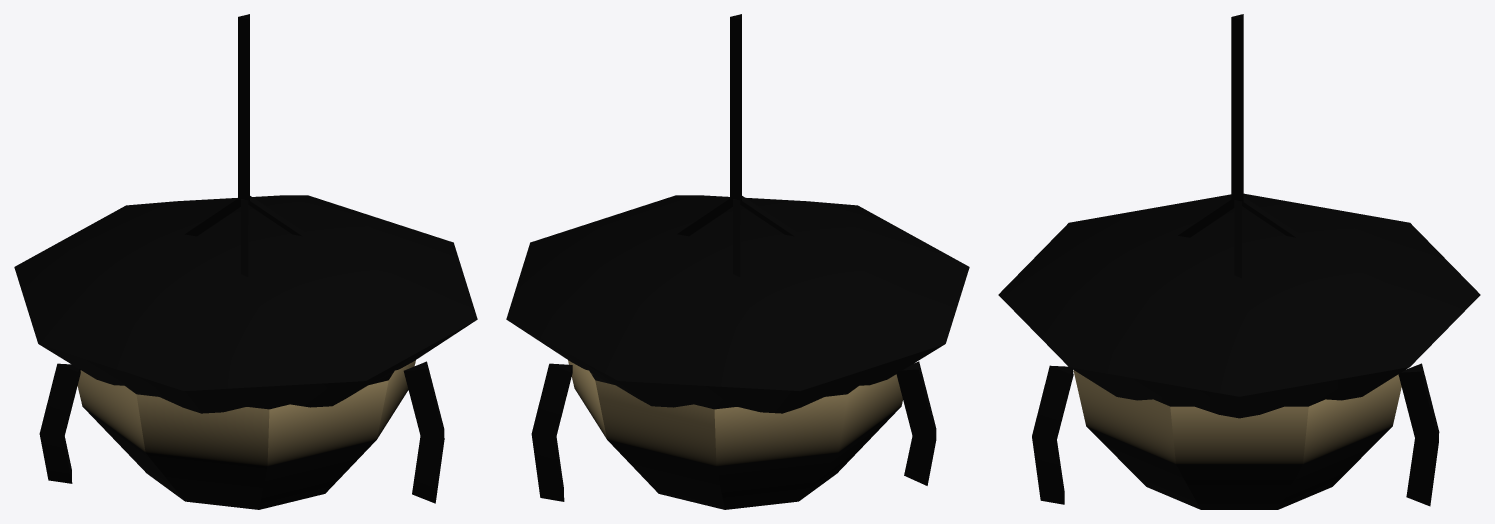
Rendered from hanging_basket.glb.
3 views of the same model, side by side, from view 1: azimuth 30°, elevation 25°; view 2: azimuth 150°, elevation 25°; view 3: azimuth 270°, elevation 25° (orthographic).
Parts seen in each view (by area): view 1: leaves, wicker, brass; view 2: leaves, wicker, brass; view 3: leaves, wicker, brass.
Boxes of the visible parts, left/top/right/bottom form: leaves: left=14, top=195, right=477, bottom=503; wicker: left=77, top=360, right=415, bottom=509; brass: left=185, top=14, right=304, bottom=277; leaves: left=506, top=195, right=969, bottom=501; wicker: left=568, top=360, right=902, bottom=509; brass: left=677, top=14, right=796, bottom=277; leaves: left=998, top=193, right=1480, bottom=506; wicker: left=1073, top=370, right=1401, bottom=509; brass: left=1178, top=14, right=1298, bottom=278.
Bounding box in the file's own units: 0.48 × 0.51 × 0.48.
